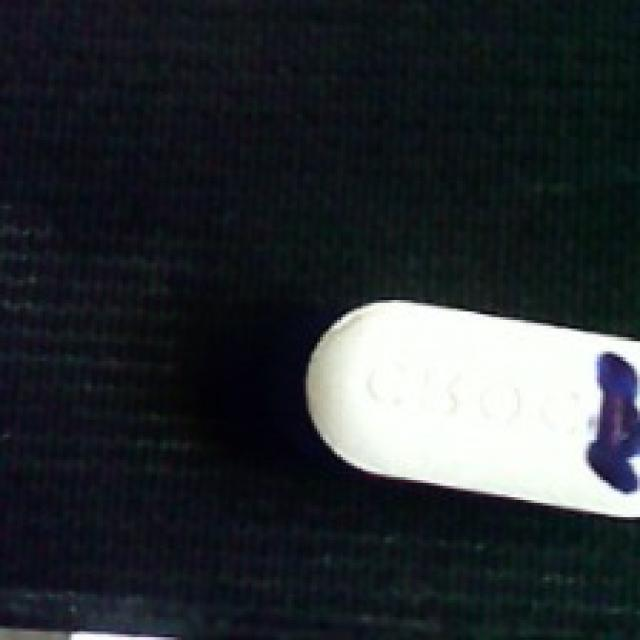defected: (294, 292, 640, 526)
